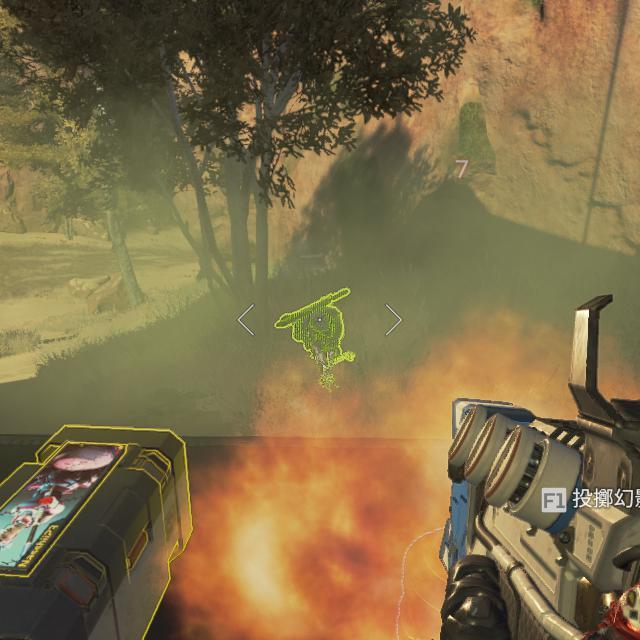avatar: (276, 286, 357, 388)
